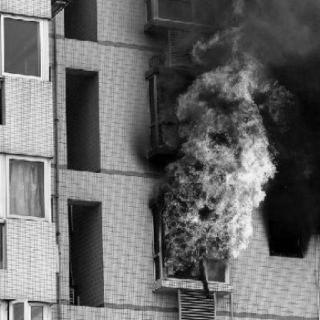Fire: (153, 44, 285, 278)
Smoke: (266, 3, 318, 261)
